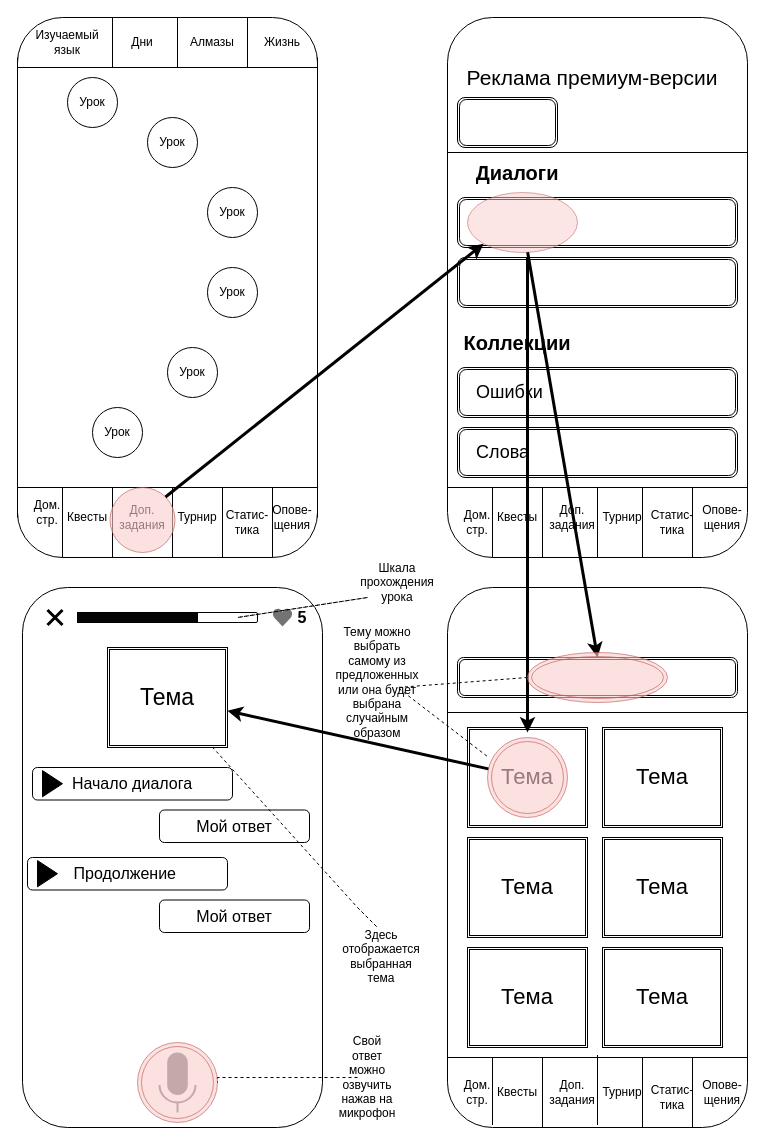
The diagram is 765 pixels wide and 1145 high, and some of its shapes have lost their labels. The box of each missing label's shape, as (x1, y1, x2, y2) in pixels:
Говорить: (456, 196, 738, 248)
Подключить: (456, 96, 558, 148)
Слушать: (456, 256, 738, 308)
СТАРТ +20 XP: (456, 656, 738, 698)
